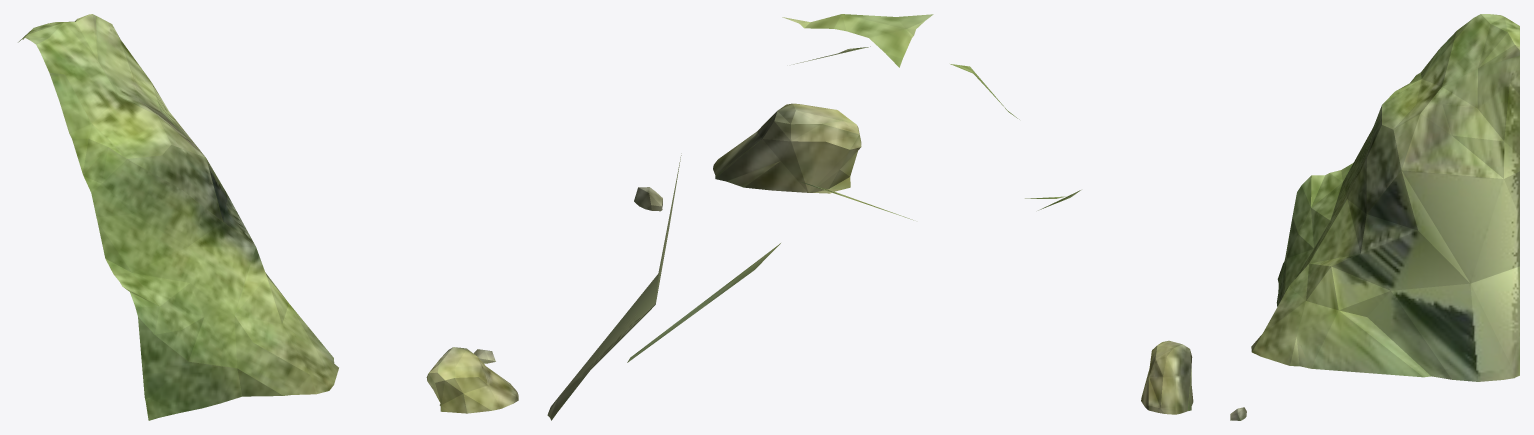
The picture shows the model from 3 angles, left to right: view 1: azimuth 30°, elevation 25°; view 2: azimuth 150°, elevation 25°; view 3: azimuth 270°, elevation 25°; orthographic projection. The views are drawn at different scales.
Size of the model in its own units: 3.79 by 3.32 by 4.28.
Materials: 1 (1 with a texture image).
